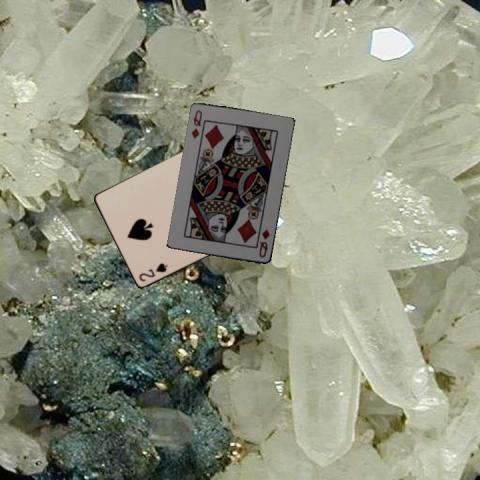2s: (136, 260, 169, 283)
Qd: (255, 223, 271, 259), (189, 107, 203, 141)
